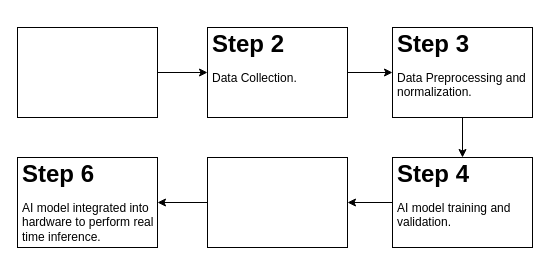
Image size: 550x265. Some labels were removed from this diagram. Each missing label, with the box of its shape:
Step 1 Hardware Setup & ECG Signal Acquisition.: (16, 26, 158, 118)
Step 5 AI model converted to TensorFlow Lite.: (206, 156, 348, 248)
